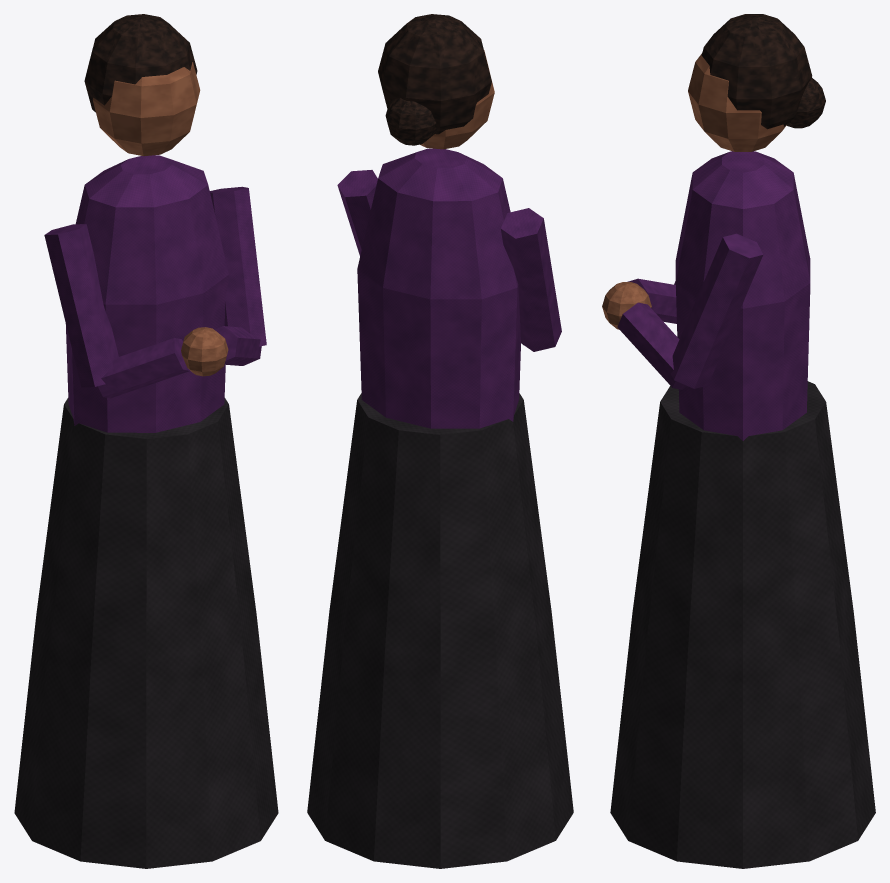
The model's file is persona_mujer4.obj.
3 renders of one model, left to right at view 1: azimuth 30°, elevation 25°; view 2: azimuth 150°, elevation 25°; view 3: azimuth 270°, elevation 25°, orthographic.
Parts seen in each view (by area): view 1: Pieza, Pieza.001, Cylinder, Sphere.003, Sphere.004, Cylinder.002, Cylinder.001, Sphere.002, Cylinder.003; view 2: Pieza, Pieza.001, Sphere.004, Cylinder, Cylinder.002, Sphere.005, Sphere.003; view 3: Pieza, Pieza.001, Sphere.004, Cylinder.002, Sphere.003, Cylinder.003, Sphere.002, Cylinder.001, Sphere.005.
Part boxes in pixels (x1,y1,x2,y2): Pieza: (14, 398, 278, 868); Pieza.001: (65, 155, 228, 432); Cylinder: (44, 224, 118, 387); Sphere.003: (92, 62, 200, 156); Sphere.004: (84, 14, 197, 112); Cylinder.002: (209, 186, 266, 346); Cylinder.001: (98, 338, 190, 398); Sphere.002: (181, 327, 228, 376); Cylinder.003: (214, 326, 261, 365); Pieza: (307, 393, 573, 868); Pieza.001: (357, 148, 520, 428); Sphere.004: (378, 14, 491, 134); Cylinder: (500, 208, 561, 351); Cylinder.002: (337, 170, 377, 256); Sphere.005: (385, 98, 436, 145); Sphere.003: (420, 50, 494, 149); Pieza: (610, 381, 875, 868); Pieza.001: (675, 151, 810, 440); Sphere.004: (701, 14, 812, 129); Cylinder.002: (671, 233, 763, 388); Sphere.003: (688, 53, 786, 151); Cylinder.003: (617, 302, 686, 389); Sphere.002: (602, 282, 651, 329); Cylinder.001: (627, 278, 676, 323); Sphere.005: (787, 78, 825, 128).
Bounding box in the file's own units: 0.48 × 1.63 × 0.495.
Materials: 5 (5 with a texture image).
